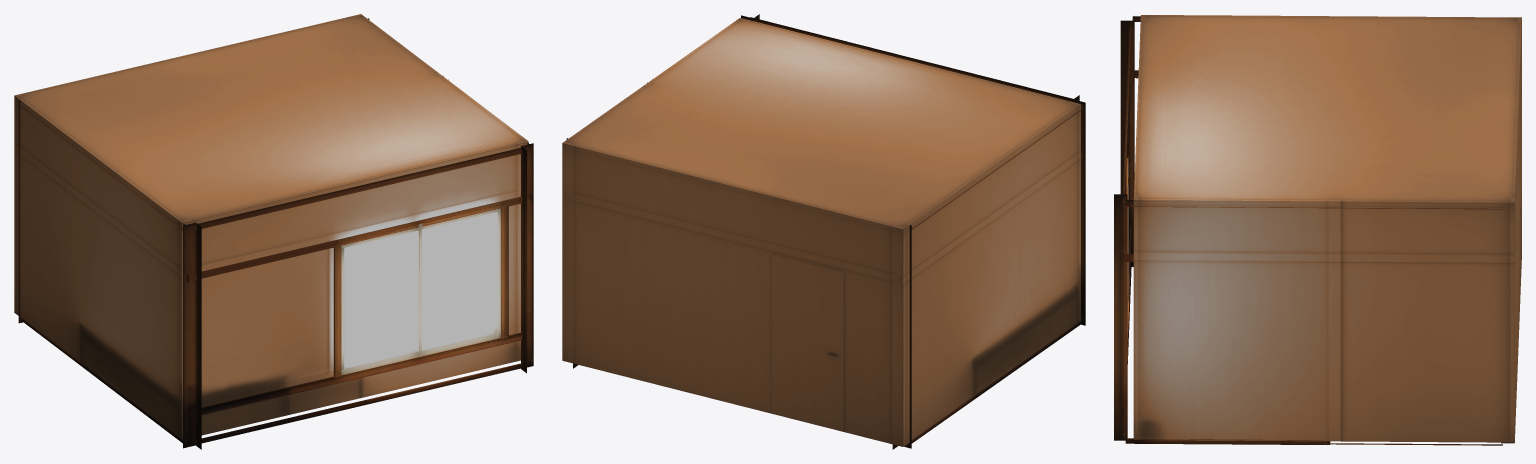
File: SpookyAutoChessBrown.glb
3 renders of one model, left to right at view 1: azimuth 30°, elevation 25°; view 2: azimuth 150°, elevation 25°; view 3: azimuth 270°, elevation 25°, orthographic. The views are drawn at different scales.
Visible parts, largest first — view 1: 24_Mesh2_0.2_0_0, 24_Mesh1_0.2_0_0_root_root; view 2: 24_Mesh2_0.2_0_0, 24_Mesh1_0.2_0_0_root_root; view 3: 24_Mesh2_0.2_0_0, 24_Mesh1_0.2_0_0_root_root.
Boxes of the visible parts, bbox=[...] form: 24_Mesh2_0.2_0_0: bbox=[14, 14, 528, 438]; 24_Mesh1_0.2_0_0_root_root: bbox=[18, 18, 533, 449]; 24_Mesh2_0.2_0_0: bbox=[562, 18, 1080, 446]; 24_Mesh1_0.2_0_0_root_root: bbox=[566, 14, 1085, 449]; 24_Mesh2_0.2_0_0: bbox=[1133, 15, 1521, 442]; 24_Mesh1_0.2_0_0_root_root: bbox=[1114, 16, 1514, 445].
Bounding box in the file's own units: 731 × 443 × 664.
Materials: 31 (30 with a texture image).
